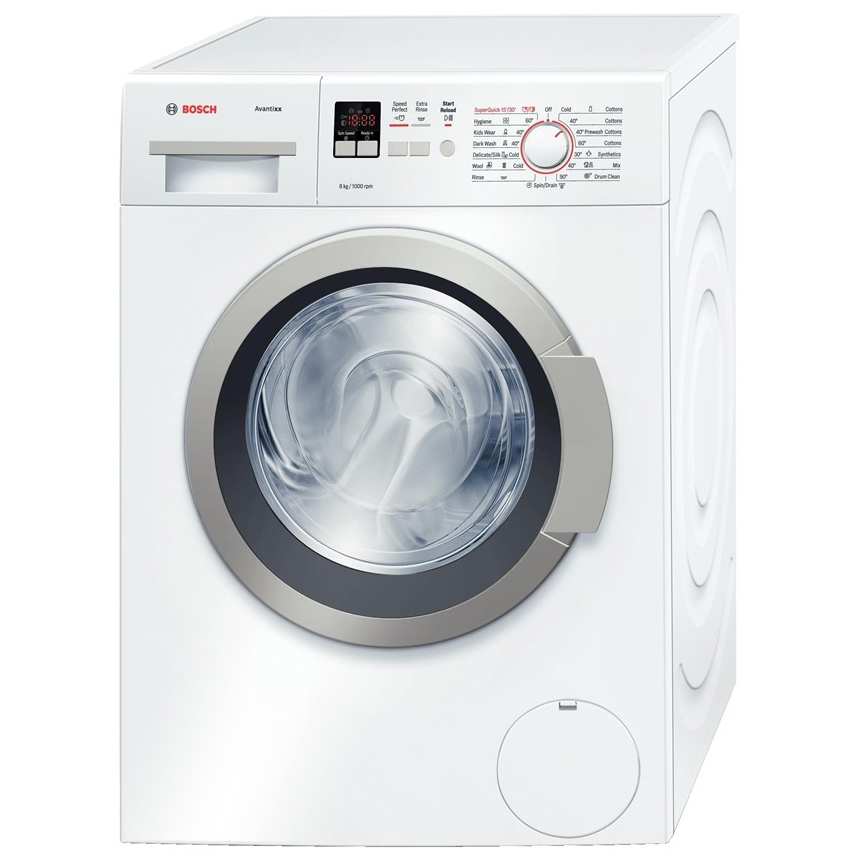Bosch: (179, 100, 221, 119)
